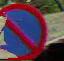No waiting: (1, 2, 53, 57)
